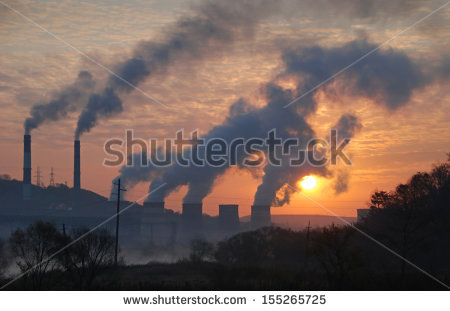dust: (65, 55, 166, 144), (248, 129, 334, 211), (177, 141, 229, 207), (17, 81, 70, 141), (106, 146, 153, 195), (145, 159, 182, 210)
